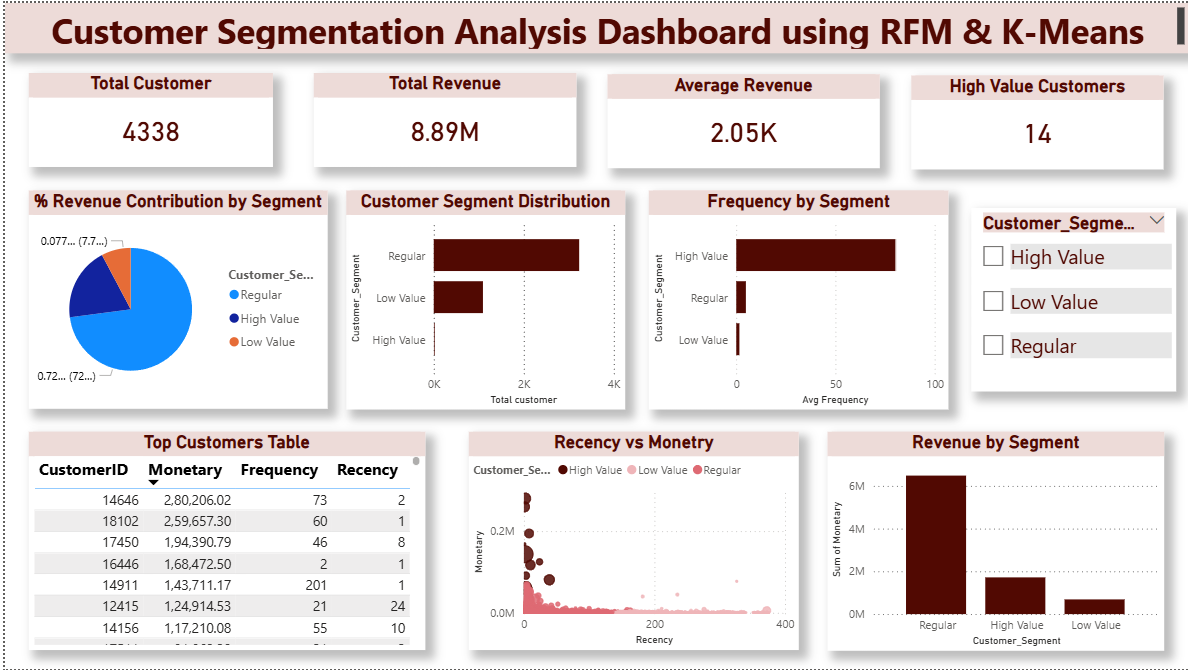

The page's visual inventory and layout, read from the dashboard file:
{"tool":"powerbi","page":{"name":"Page 1","canvas":[1280,720],"ordinal":0},"visuals":[{"type":"card","title":"Total Customer","fields":{"Values":["rfm_output.Total customer"]},"box":[25.7,75.7,264.3,101.4],"z":0},{"type":"card","title":"Total Revenue","fields":{"Values":["rfm_output.Total Revenue"]},"box":[334.3,75.7,284.3,101.4],"z":1000},{"type":"card","title":"High Value Customers","fields":{"Values":["rfm_output.High Value Customers"]},"box":[980,78.6,272.9,101.4],"z":2000},{"type":"card","title":"Average Revenue","fields":{"Values":["rfm_output.Avg Revenue"]},"box":[651.4,77.1,294.3,101.4],"z":3000},{"type":"clusteredBarChart","title":"Customer Segment Distribution","fields":{"Category":["rfm_output.Customer_Segment"],"Y":["rfm_output.Total customer"]},"box":[368.6,202.9,301.4,237.1],"z":4000},{"type":"clusteredColumnChart","title":"Revenue by Segment","fields":{"Category":["rfm_output.Customer_Segment"],"Y":["Sum(rfm_output.Monetary)"]},"box":[888.6,462.9,364.3,237.1],"z":5000},{"type":"scatterChart","title":"Recency vs Monetry","fields":{"X":["rfm_output.Recency"],"Y":["rfm_output.Monetary"],"Size":["Sum(rfm_output.Frequency)"],"Series":["rfm_output.Customer_Segment"]},"box":[501.4,462.9,357.1,235.7],"z":6000},{"type":"clusteredBarChart","title":"Frequency by Segment","fields":{"Y":["rfm_output.Avg Frequency"],"Category":["rfm_output.Customer_Segment"]},"box":[695.7,202.9,324.3,237.1],"z":7000},{"type":"slicer","fields":{"Values":["rfm_output.Customer_Segment"]},"box":[1044.3,221.4,221.4,198.6],"z":8000},{"type":"pieChart","title":"% Revenue Contribution by Segment","fields":{"Category":["rfm_output.Customer_Segment"],"Y":["rfm_output.Revenue %"]},"box":[25.7,202.9,322.9,235.7],"z":9000},{"type":"textbox","box":[0,0,1280,54.3],"z":10000},{"type":"tableEx","title":"Top Customers Table ","fields":{"Values":["rfm_output.CustomerID","rfm_output.Monetary","rfm_output.Frequency","rfm_output.Recency"]},"box":[25.7,462.9,428.6,235.7],"z":11000}]}

Visuals, with their boxes in screenshot pixels (x1, y1, x2, y2), scaled from the page's 1280x720 canvas onto the 1188x670 screenshot:
"Total Customer" card: (x1=24, y1=70, x2=269, y2=165)
"Total Revenue" card: (x1=310, y1=70, x2=574, y2=165)
"High Value Customers" card: (x1=910, y1=73, x2=1163, y2=168)
"Average Revenue" card: (x1=605, y1=72, x2=878, y2=166)
"Customer Segment Distribution" clusteredBarChart: (x1=342, y1=189, x2=622, y2=409)
"Revenue by Segment" clusteredColumnChart: (x1=825, y1=431, x2=1163, y2=651)
"Recency vs Monetry" scatterChart: (x1=465, y1=431, x2=797, y2=650)
"Frequency by Segment" clusteredBarChart: (x1=646, y1=189, x2=947, y2=409)
slicer - rfm_output.Customer_Segment: (x1=969, y1=206, x2=1175, y2=391)
"% Revenue Contribution by Segment" pieChart: (x1=24, y1=189, x2=324, y2=408)
textbox: (x1=0, y1=0, x2=1187, y2=51)
"Top Customers Table " tableEx: (x1=24, y1=431, x2=422, y2=650)
